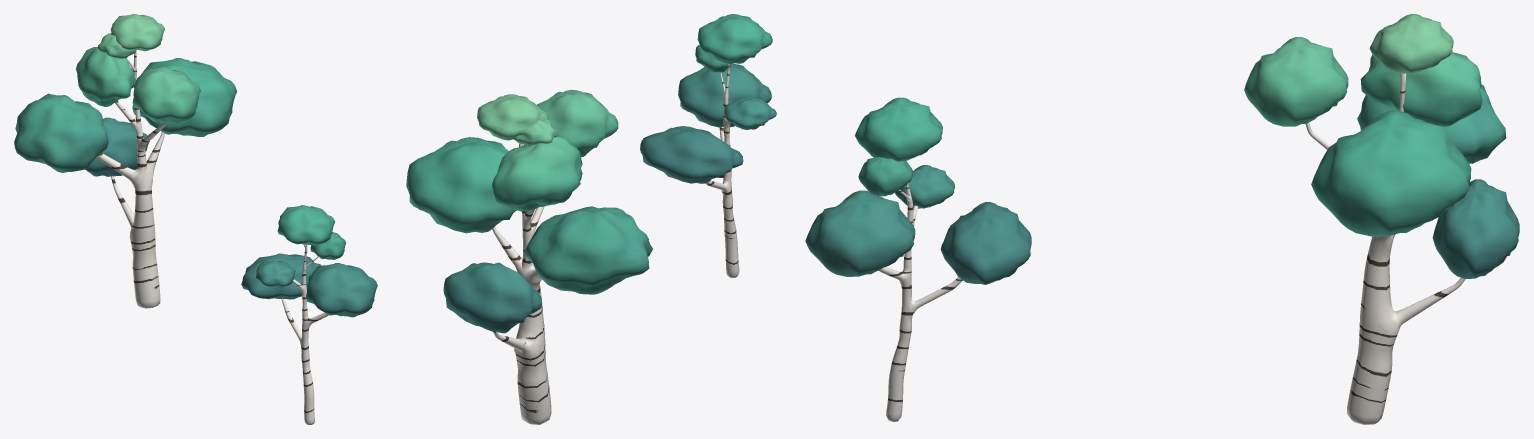
The picture shows the model from 3 angles, left to right: view 1: azimuth 30°, elevation 25°; view 2: azimuth 150°, elevation 25°; view 3: azimuth 270°, elevation 25°; orthographic projection. The views are drawn at different scales.
Visible parts, largest first — view 1: Object_3; view 2: Object_3; view 3: Object_3.
Boxes of the visible parts, x1=… form: Object_3: x1=14, y1=14, x2=377, y2=424; Object_3: x1=406, y1=14, x2=776, y2=424; Object_3: x1=805, y1=14, x2=1519, y2=424.
Bounding box in the file's own units: 3.69 × 4.73 × 7.59.
1 material, 1 textured.
